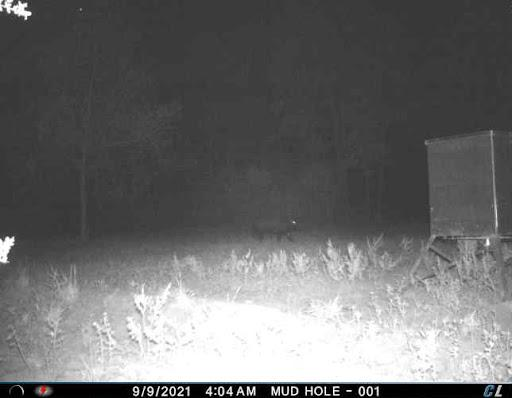Hog: (248, 213, 302, 250)
